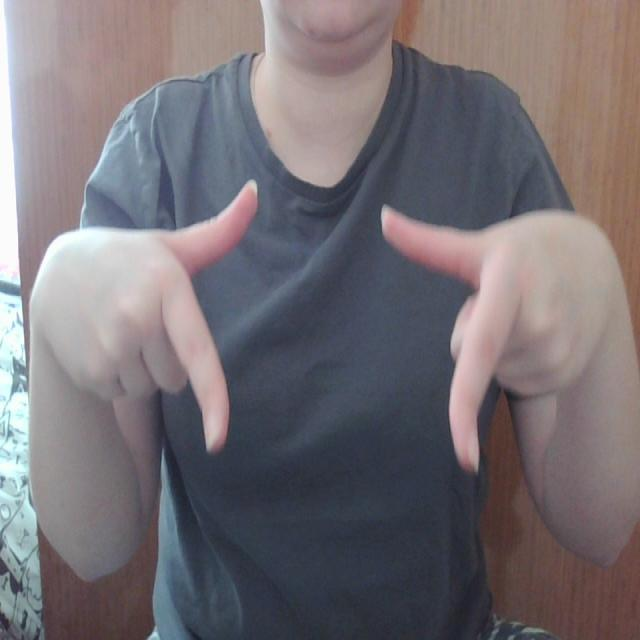Nerede: (157, 175, 525, 486)
